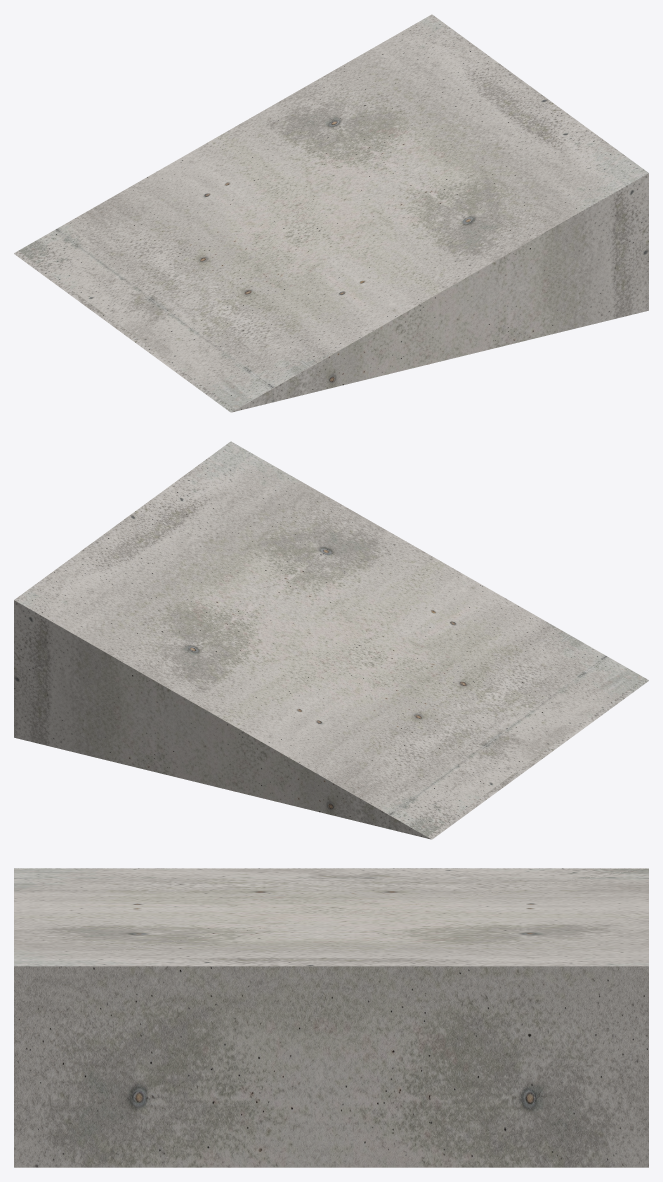
File: stoneramplong.glb
3 views of the same model, one above another, from view 1: azimuth 30°, elevation 25°; view 2: azimuth 150°, elevation 25°; view 3: azimuth 270°, elevation 25° (orthographic). The views are drawn at different scales.
Parts seen in each view (by area): view 1: Ramp_Oak; view 2: Ramp_Oak; view 3: Ramp_Oak.
Part boxes in pixels (x1=…): Ramp_Oak: x1=14, y1=14, x2=648, y2=412; Ramp_Oak: x1=14, y1=441, x2=648, y2=839; Ramp_Oak: x1=14, y1=868, x2=648, y2=1167.
Bounding box in the file's own units: 1.11 × 0.35 × 1.
1 material, 1 textured.
